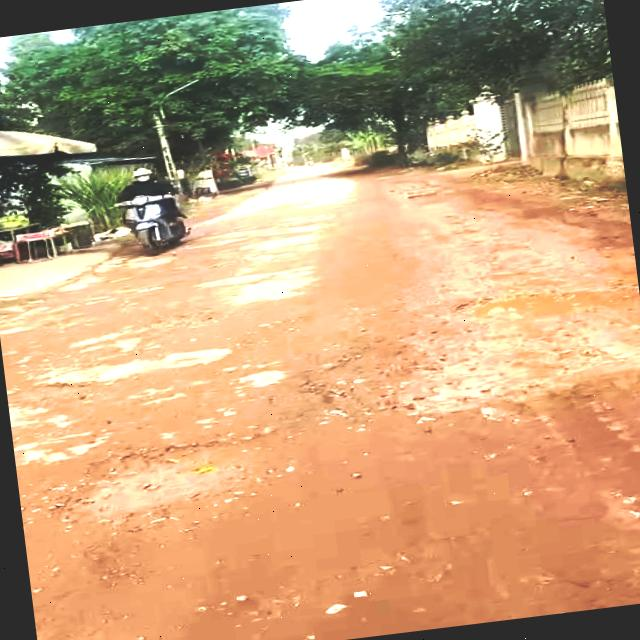pothole: (62, 432, 261, 524), (370, 358, 544, 423), (455, 272, 640, 329)
